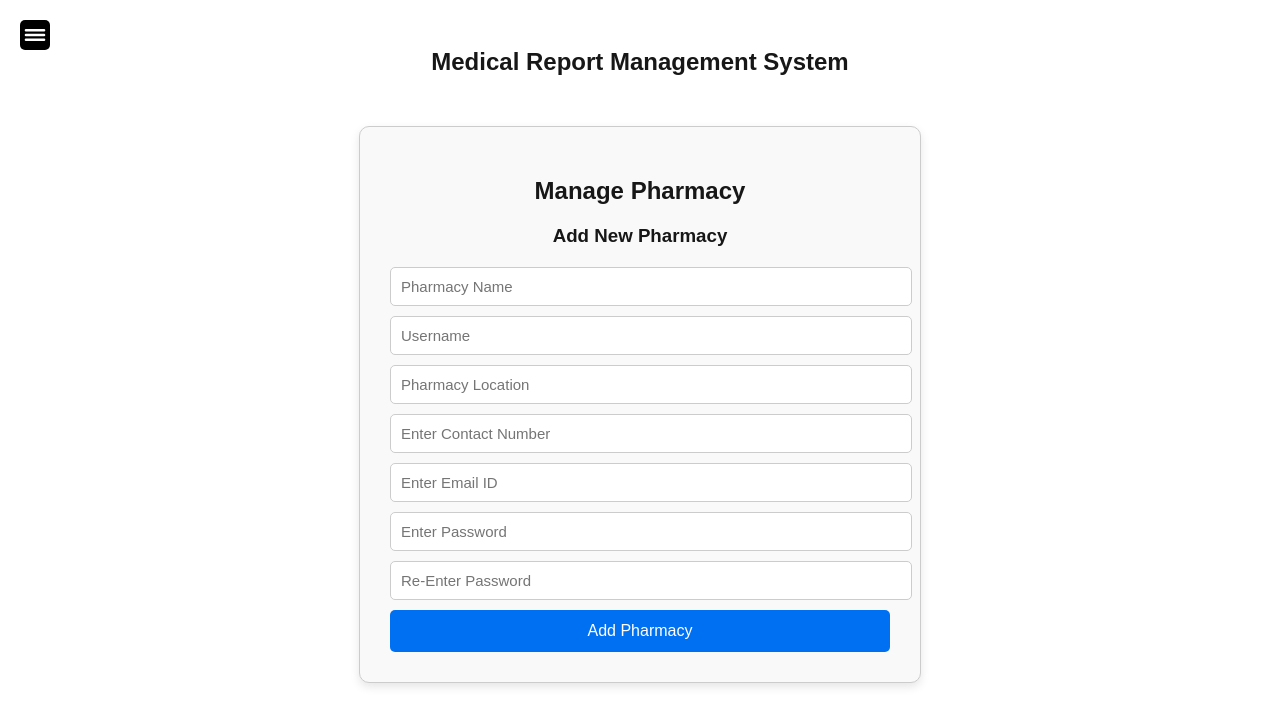
Test: ManagePharmacy Component › shows username already exists error
This screenshot has width=1280, height=720.
In the field with placeholder "Username": (651, 335) x1=390 y1=316 x2=912 y2=355, type "existingPharmacy"
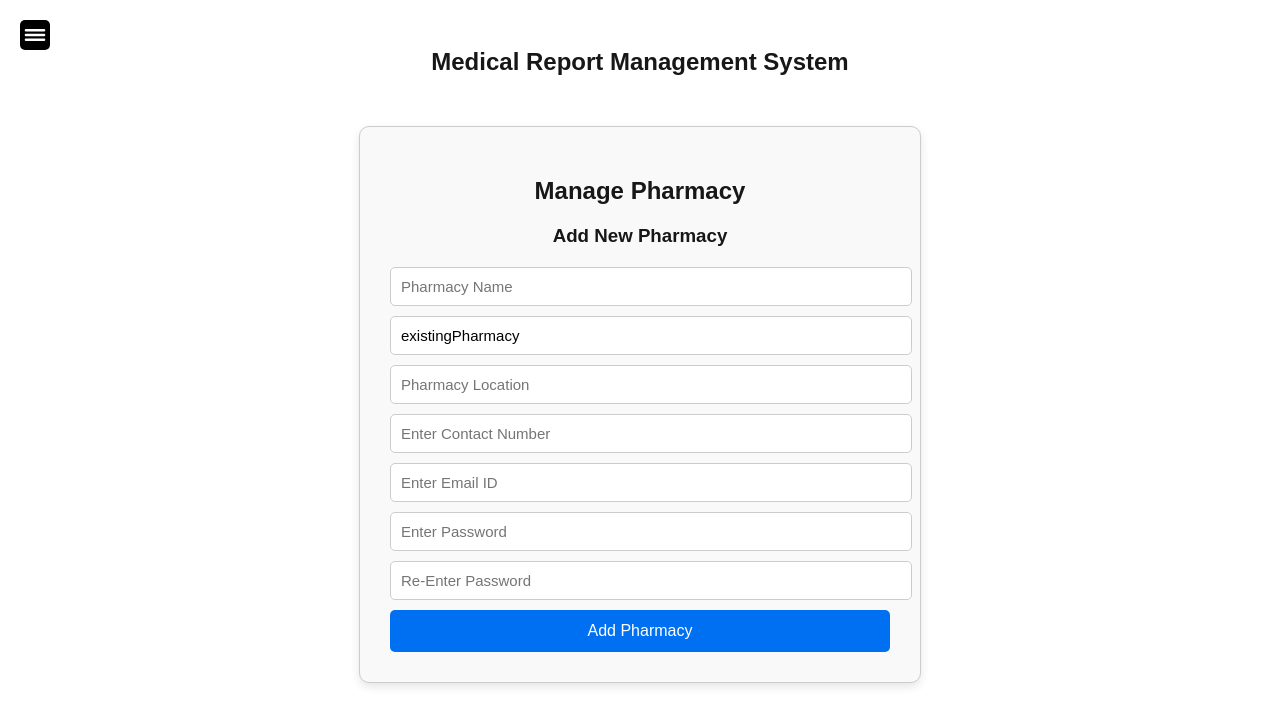
In the password field with placeholder "Enter Password": (651, 531) x1=390 y1=512 x2=912 y2=551, type "password123"
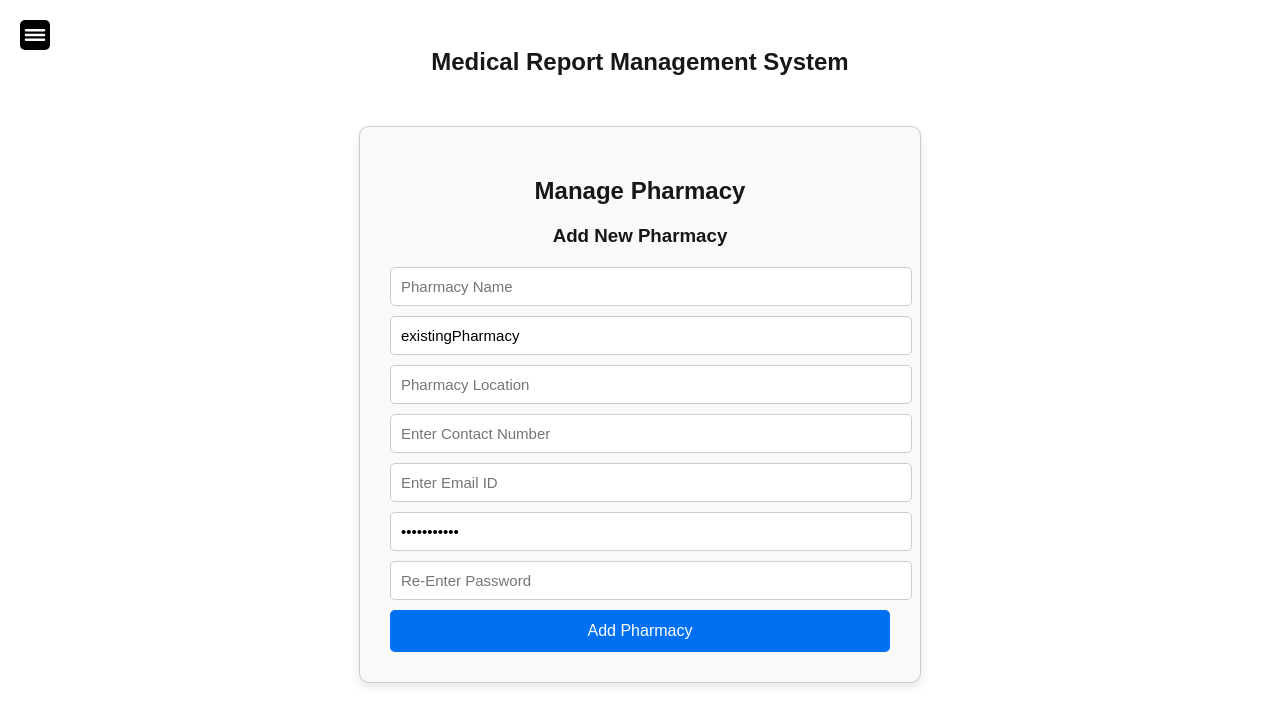
In the password field with placeholder "Re-Enter Password": (651, 580) x1=390 y1=561 x2=912 y2=600, type "password123"
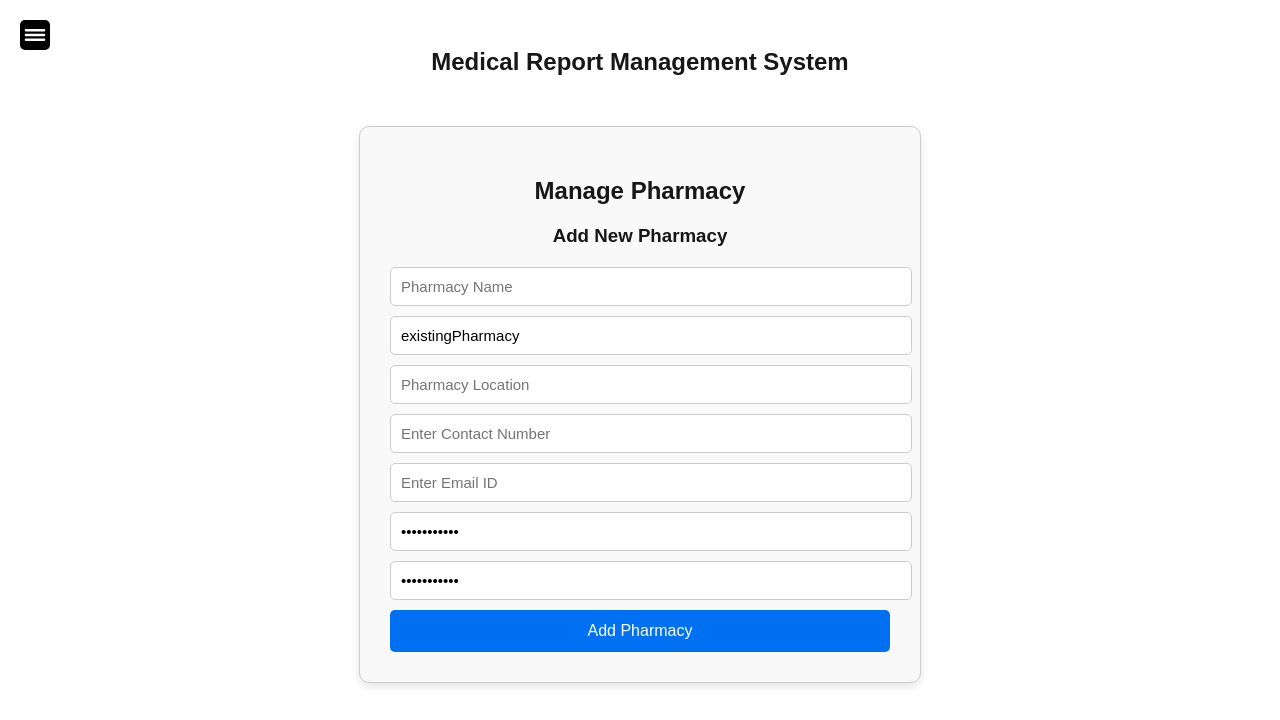
Click the button "Add Pharmacy": (640, 631) x1=390 y1=610 x2=890 y2=652
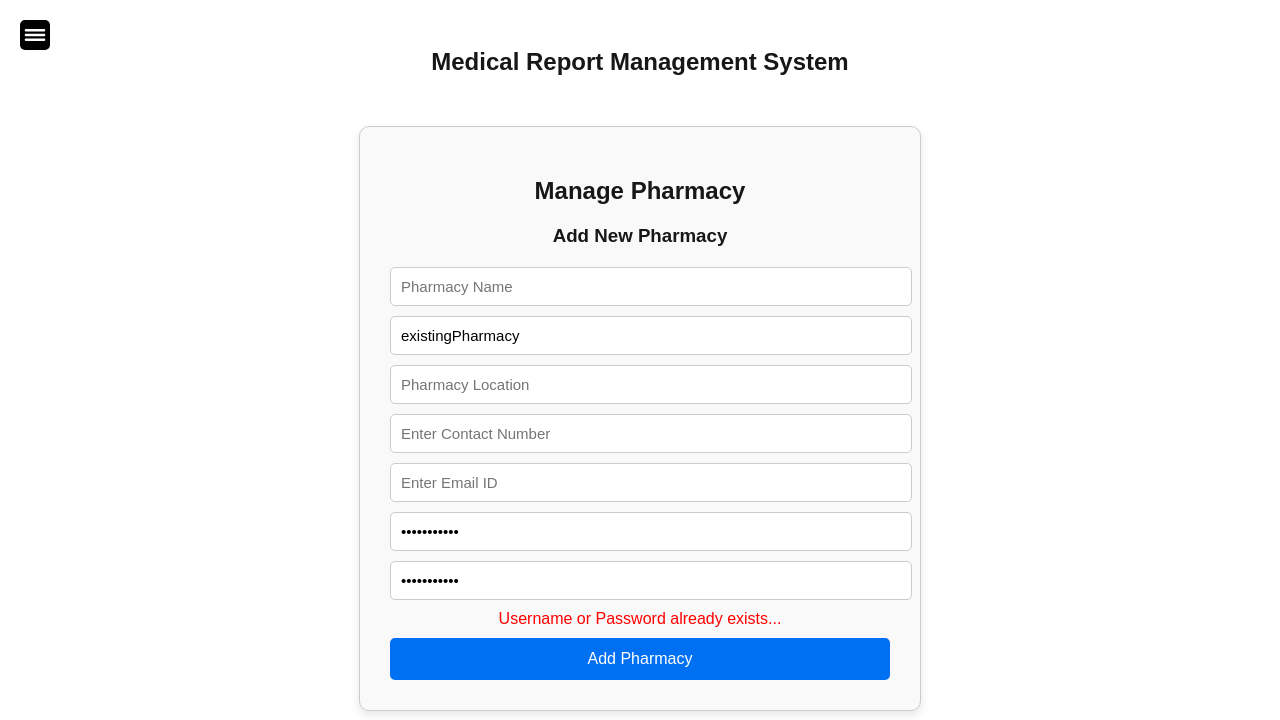
Check: the text "Username or Password already exists..." is shown, box x1=499 y1=610 x2=781 y2=627
